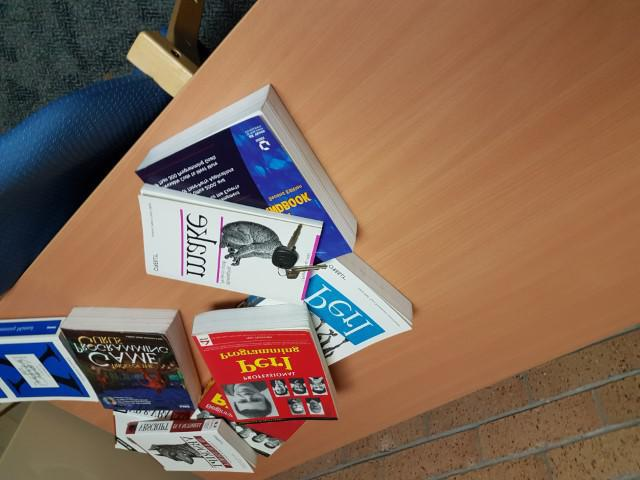key: (272, 222, 303, 268)
